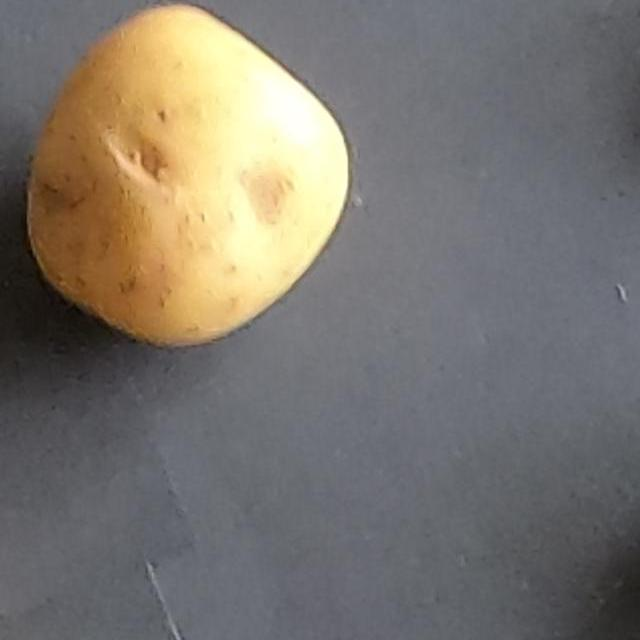potato: (0, 0, 392, 381)
